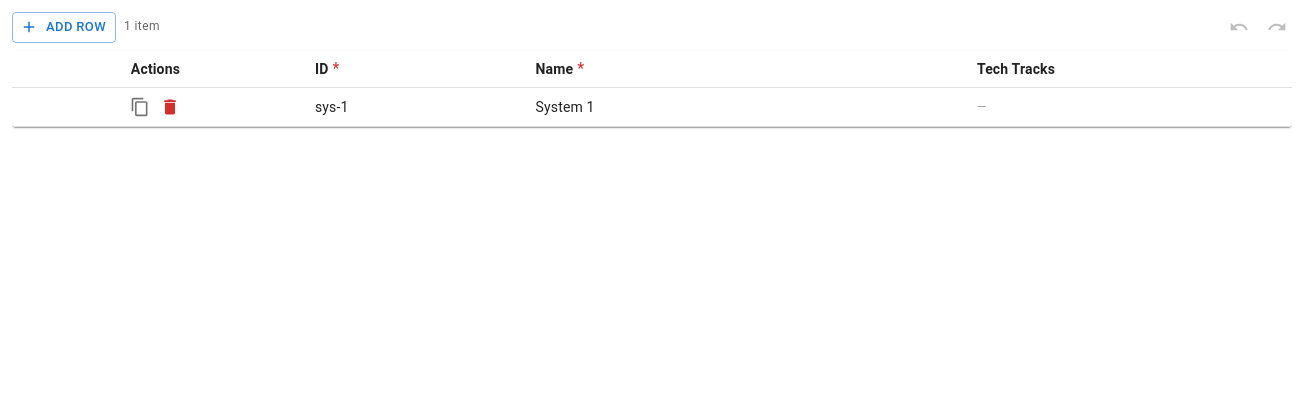
Test: EditableDataGrid › modTechTracks › does not show mod-defined tracks when modTechTracks is not provided
Click the text "—": (982, 107) x1=977 y1=100 x2=987 y2=114
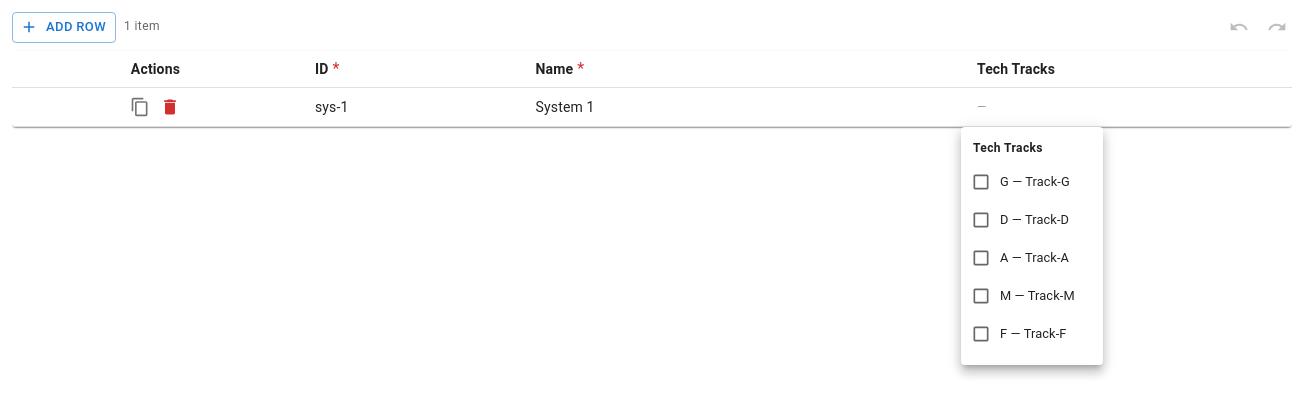
Now the text "G — Track-G" is shown, box x1=1000 y1=174 x2=1070 y2=189
